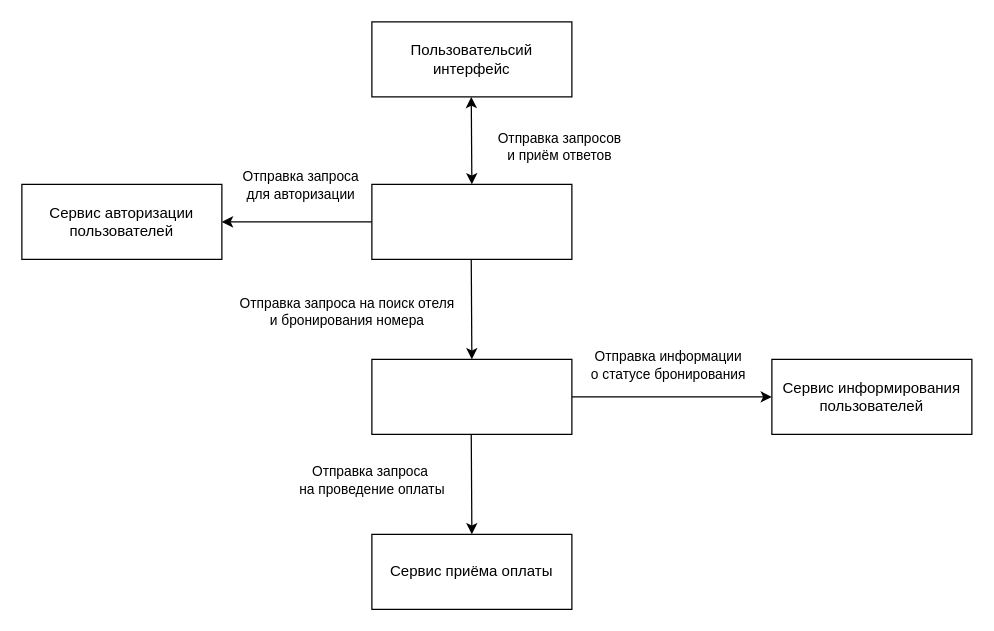
Image size: 994x631. Some labels were removed from this diagram. The shapes that lost their labels are listed below. From the top down, each one's centre as x and y in pixels, then its label:
At (471,221): "WebsiteAPIBackend".
At (471,396): "Сервис поиска и бронирования отелей".
